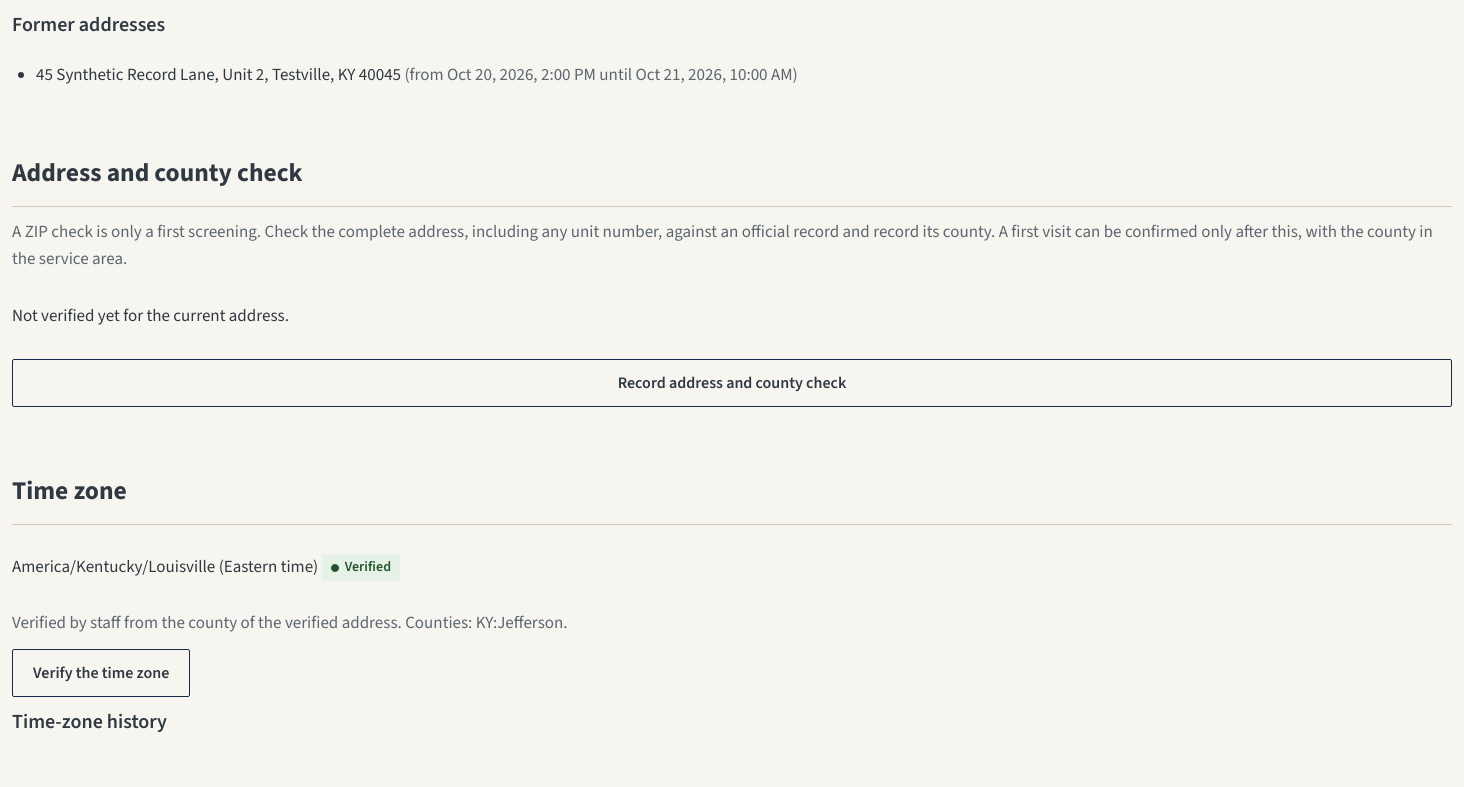
Test case: the address and county check (TSK-0127, final owner amendments 2026-10-22) › [OWN-DEC-167][OWN-DEC-179] an address the pre-validation stops names what to correct (TSK-0126)
The width and height of the screenshot is (1464, 787).
(page scrolled)
Click the button "Record address and county check": (732, 383) [12,359,1452,407]
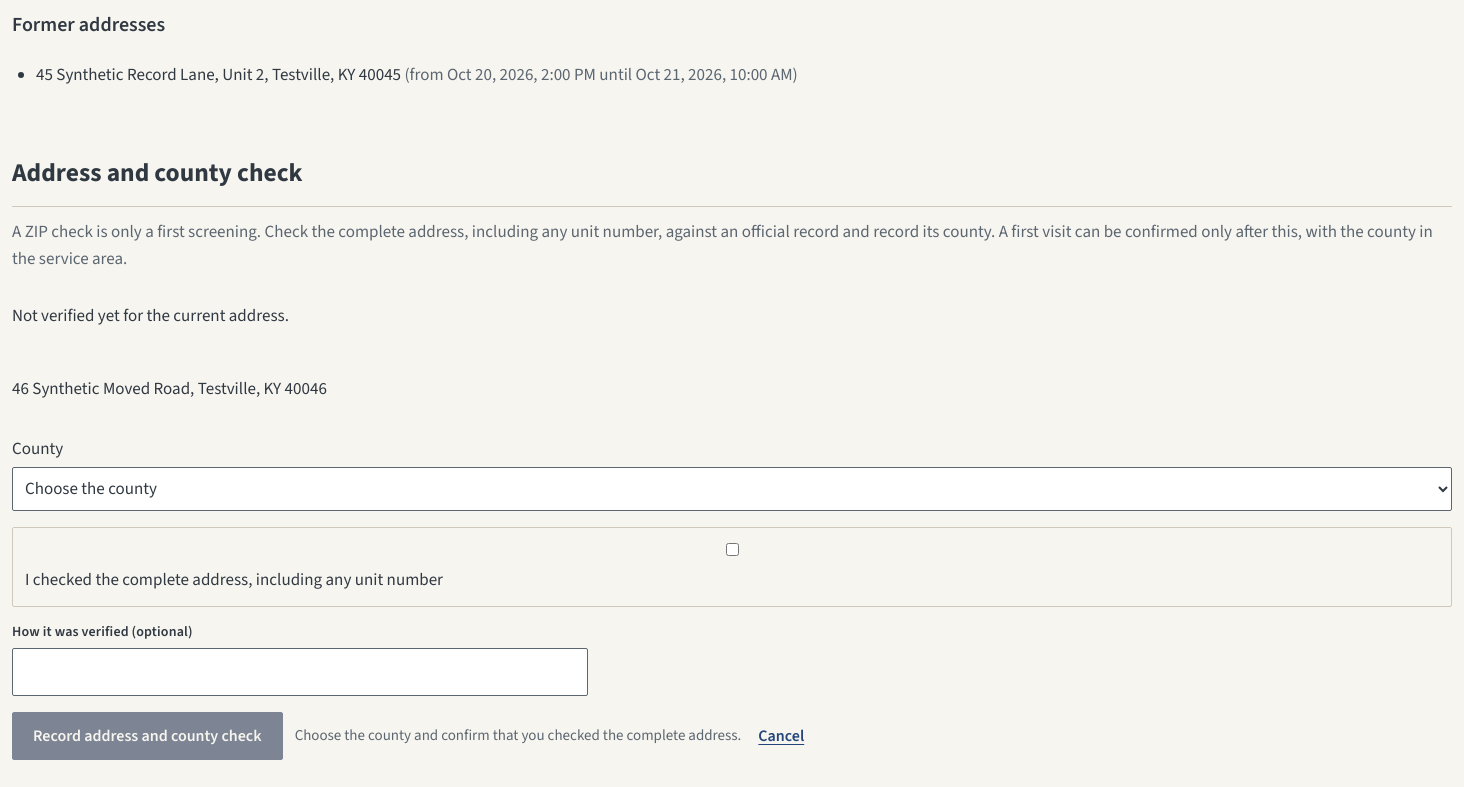
Select "Oldham County, KY" in the dropdown labelled "County": (732, 489) [12,467,1452,511]
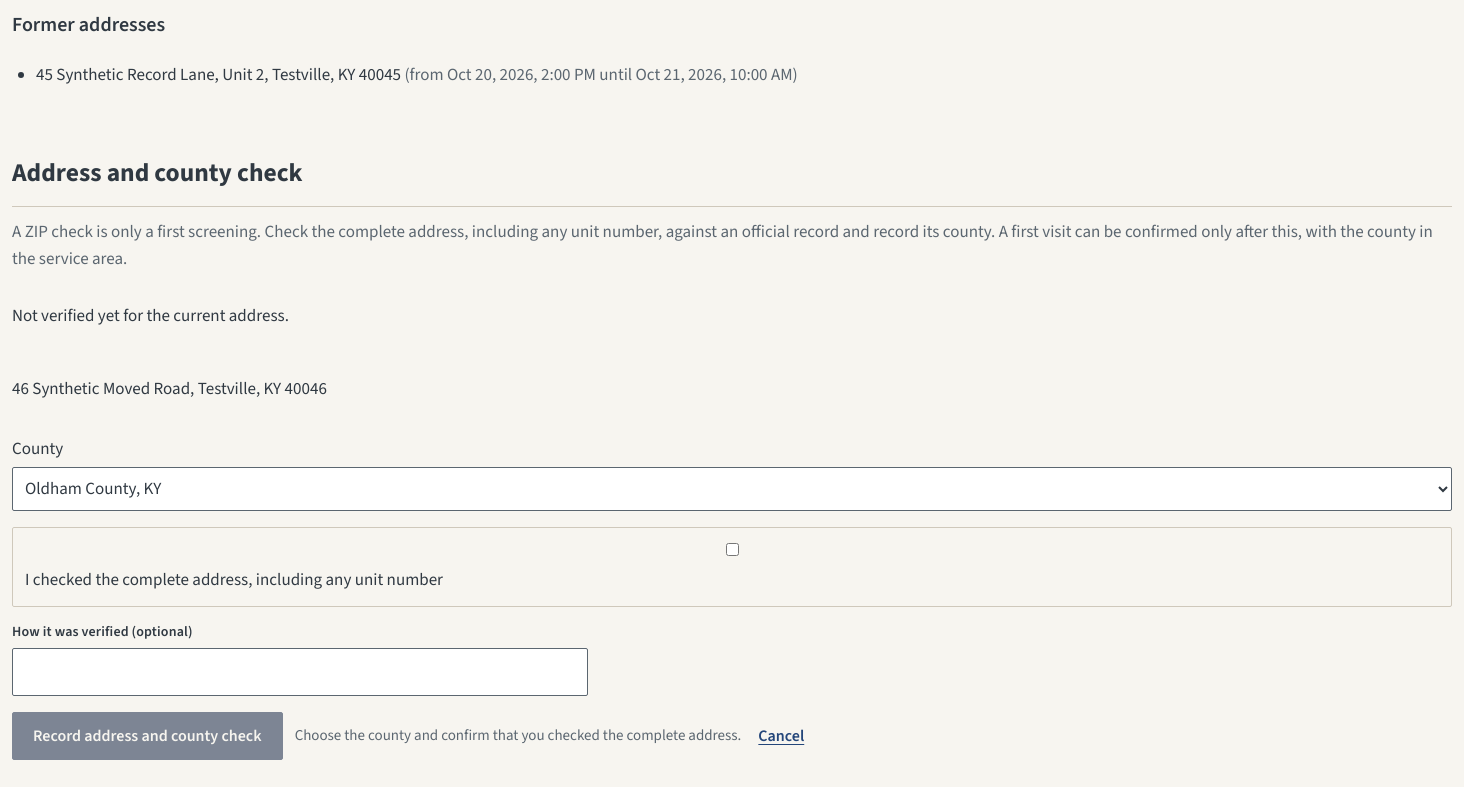
Click the checkbox labelled "I checked the complete address, including any unit number": (732, 550) [29,543,1436,556]
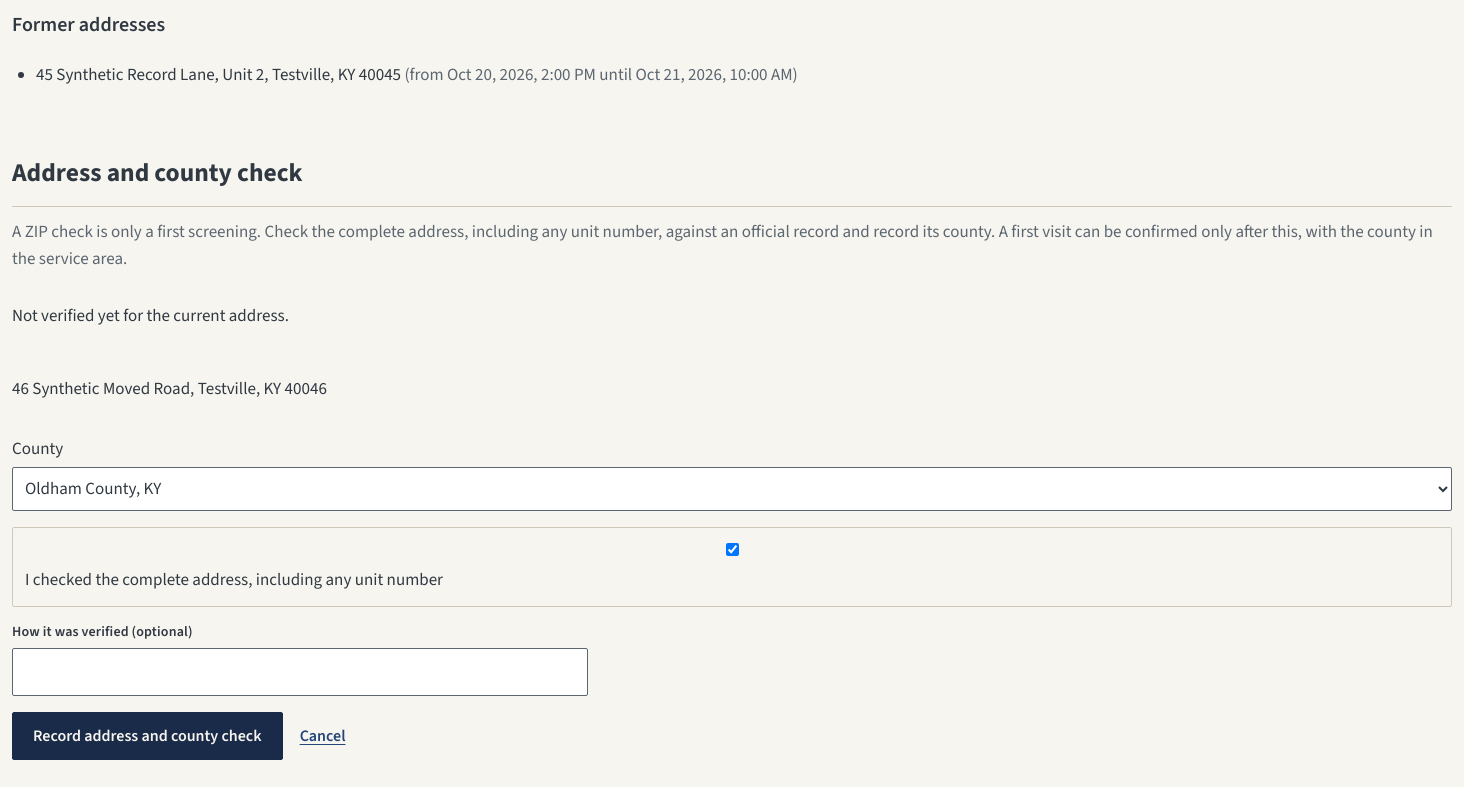
Click the button "Record address and county check": (147, 736) [12,712,283,760]
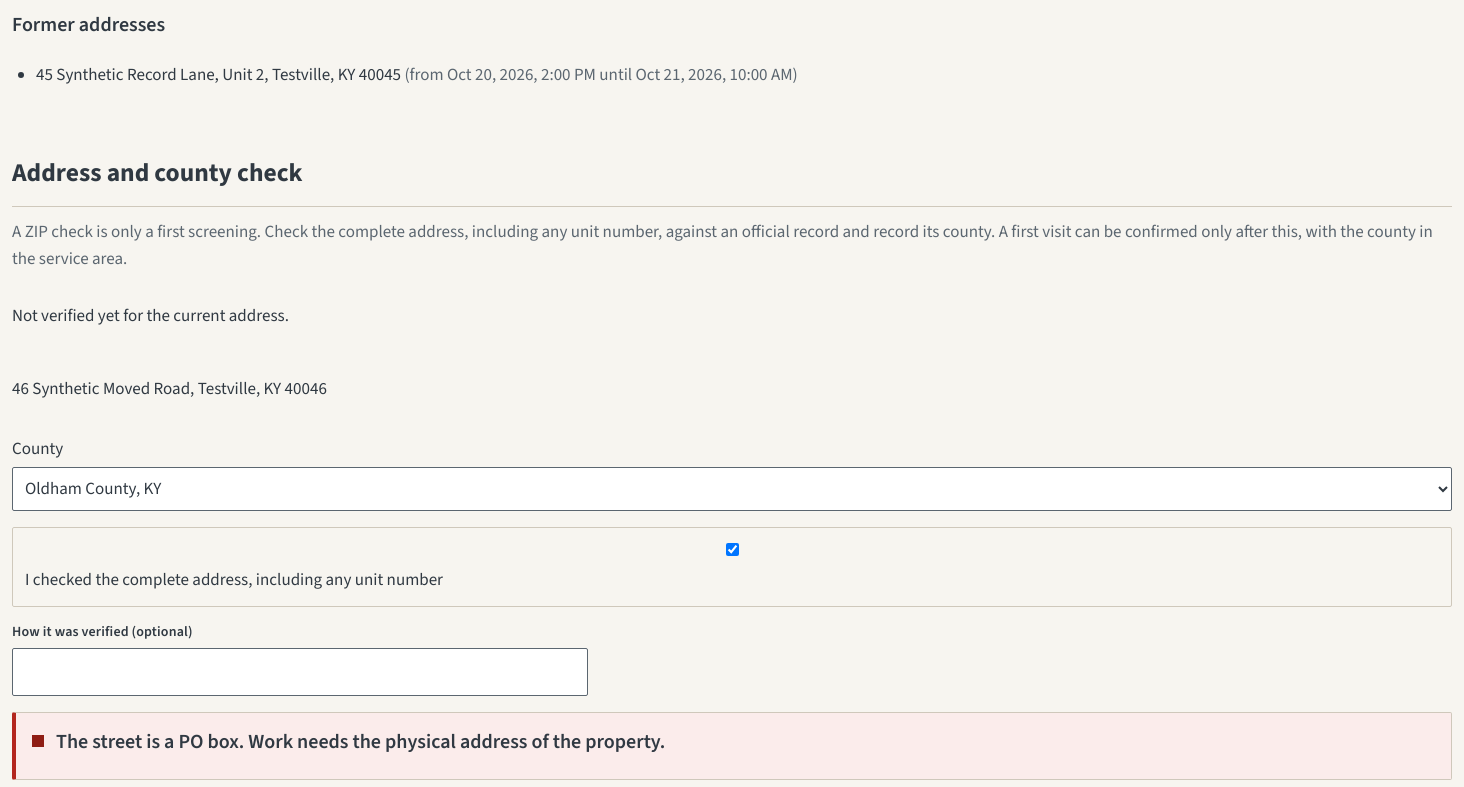
Now the text "The street is a PO box. Work needs the physical address of the property." is shown, box [56,728,665,756]
